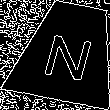N_N: (38, 23, 97, 81)
